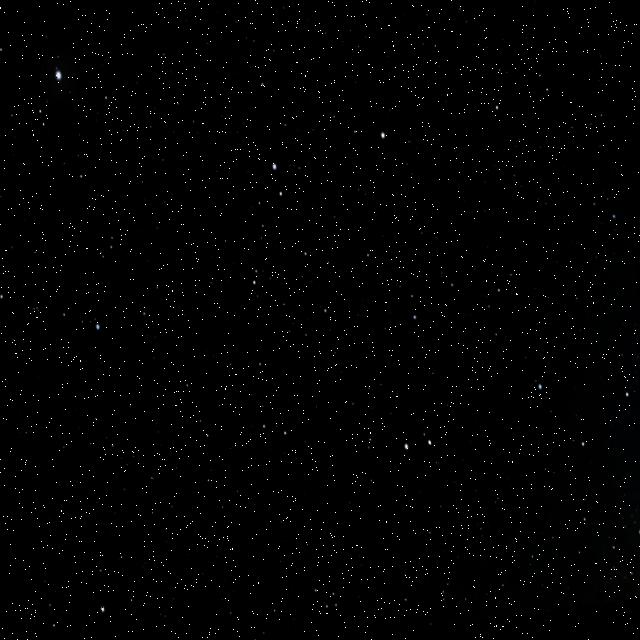Capricornus: (212, 121, 458, 493)
